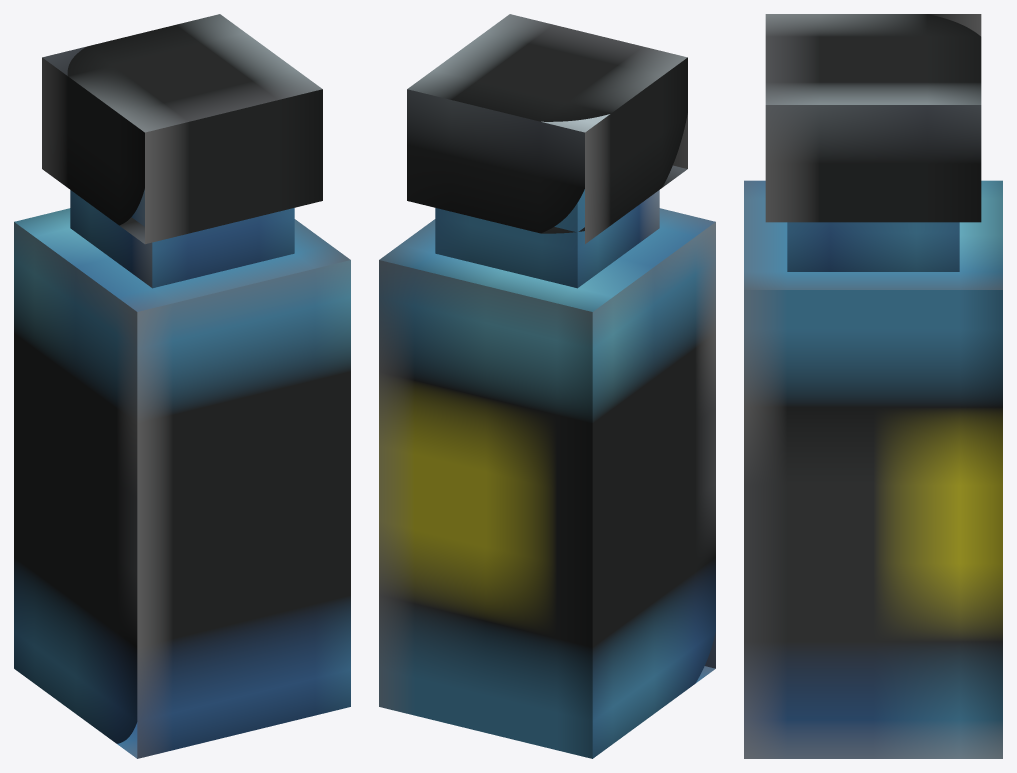
The model's file is water_bottle.fbx.
3 views of the same model, side by side, from view 1: azimuth 30°, elevation 25°; view 2: azimuth 150°, elevation 25°; view 3: azimuth 270°, elevation 25° (orthographic). The views are drawn at different scales.
Parts seen in each view (by area): view 1: cube; view 2: cube; view 3: cube.
Boxes of the visible parts, x1,y1,x2,y2 form: cube: [14, 14, 350, 758]; cube: [379, 14, 715, 758]; cube: [744, 14, 1002, 758].
Size of the model in its own units: 18.75 by 51.56 by 18.75.
1 material, 1 textured.
